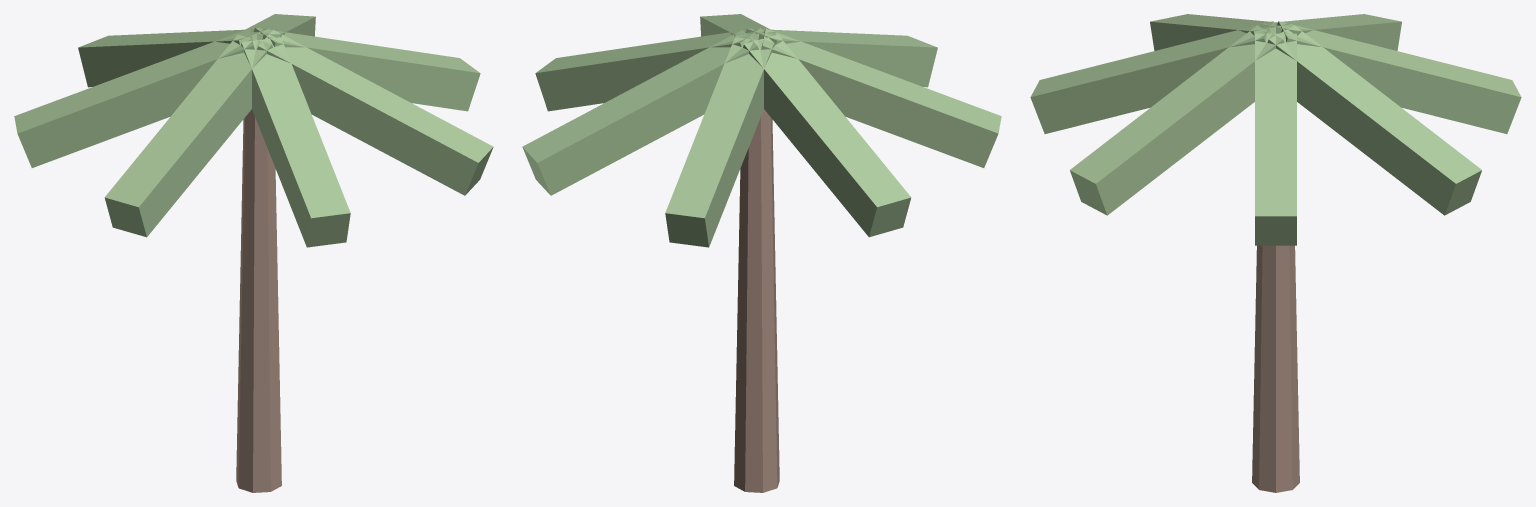
File: 10_Palm.glb
3 views of the same model, side by side, from view 1: azimuth 30°, elevation 25°; view 2: azimuth 150°, elevation 25°; view 3: azimuth 270°, elevation 25° (orthographic).
Visible parts, largest first — view 1: 10_Palm; view 2: 10_Palm; view 3: 10_Palm.
Boxes of the visible parts, <box> form: 10_Palm: <box>14,14,493,492</box>; 10_Palm: <box>522,14,1001,492</box>; 10_Palm: <box>1030,14,1521,492</box>.
Bounding box in the file's own units: 15.98 × 16.66 × 16.39.
